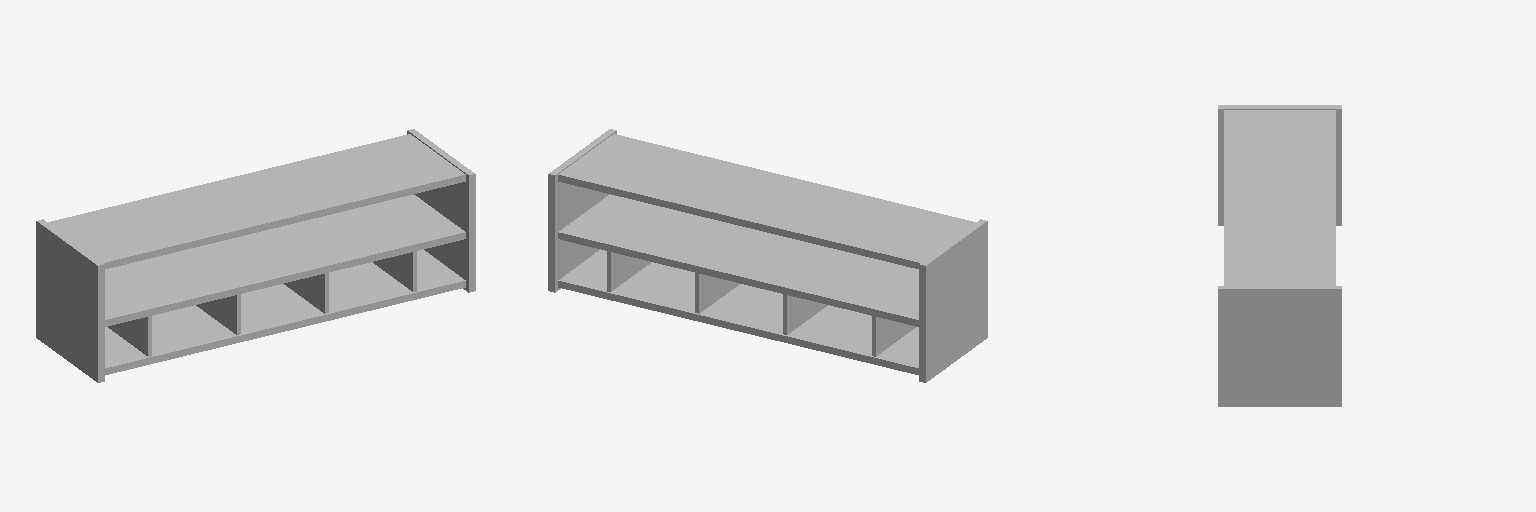
The model's file is Shelf_Small1.obj.
3 renders of one model, left to right at view 1: azimuth 30°, elevation 25°; view 2: azimuth 150°, elevation 25°; view 3: azimuth 270°, elevation 25°, orthographic.
Visible parts, largest first — view 1: Shelf_Small1; view 2: Shelf_Small1; view 3: Shelf_Small1.
Boxes of the visible parts, x1,y1,x2,y2 form: Shelf_Small1: [36, 129, 475, 382]; Shelf_Small1: [548, 129, 987, 382]; Shelf_Small1: [1218, 105, 1341, 406].
Size of the model in its own units: 1.94 by 0.5774 by 0.5504.